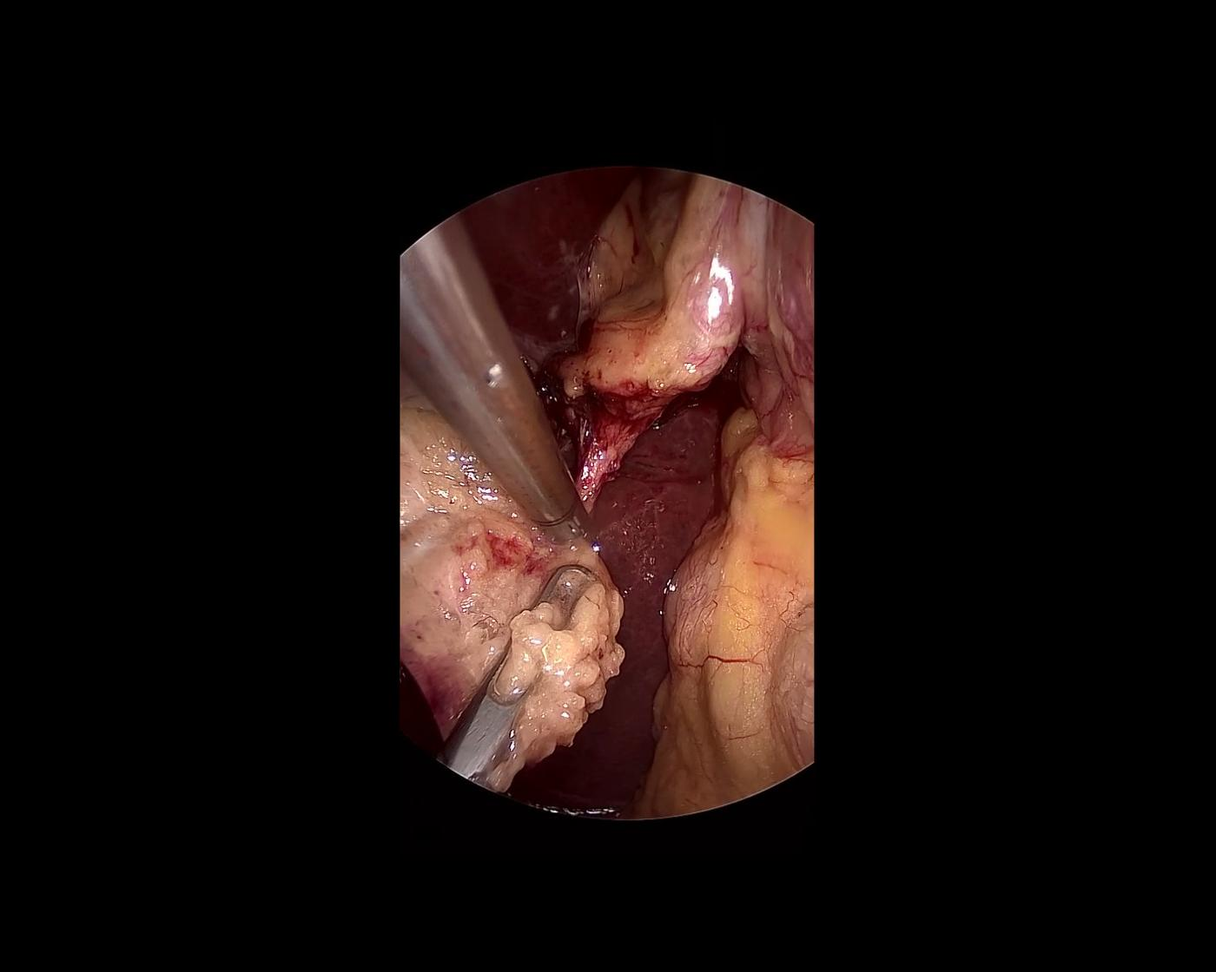Forceps: (433, 542, 623, 793)
Gallbladder: (396, 391, 633, 796)
Liver: (509, 320, 761, 832), (421, 116, 638, 375)
